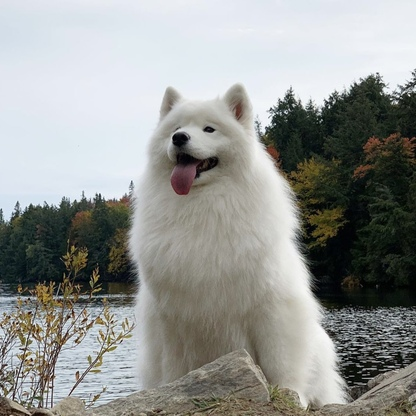samoyed: (118, 78, 355, 410)
